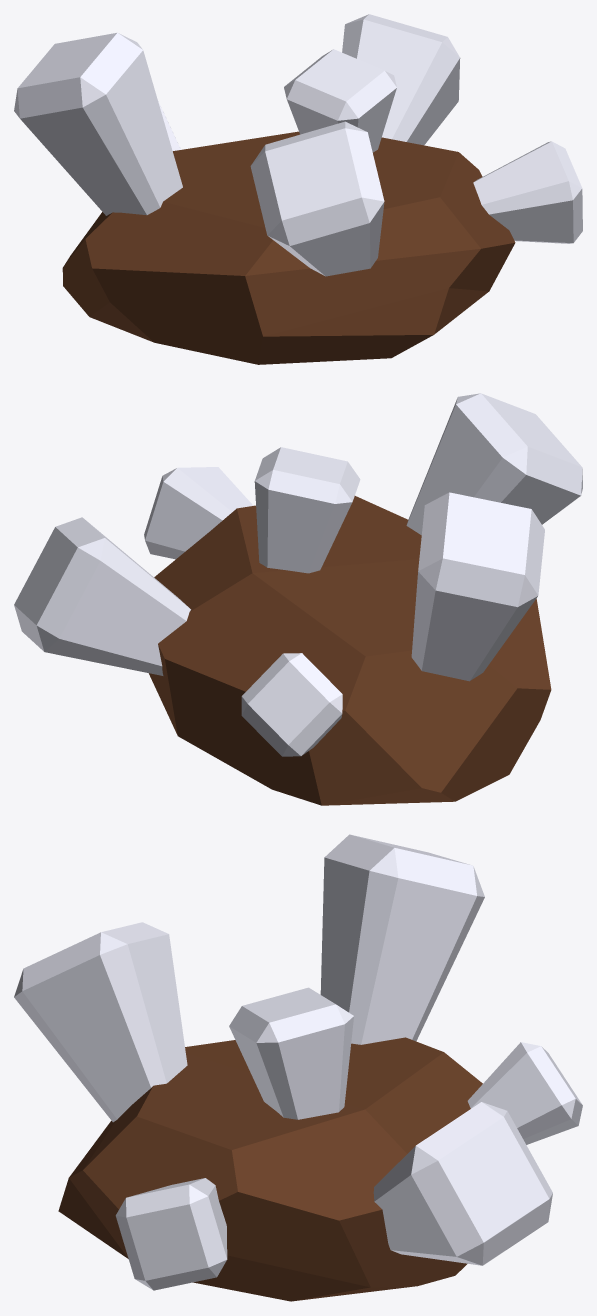
File: MineralNode_15_A.fbx
The picture shows the model from 3 angles, top to bottom: view 1: azimuth 30°, elevation 25°; view 2: azimuth 150°, elevation 25°; view 3: azimuth 270°, elevation 25°; orthographic projection. The views are drawn at different scales.
Parts seen in each view (by area): view 1: MineralNode_15_A; view 2: MineralNode_15_A; view 3: MineralNode_15_A.
Boxes of the visible parts, left/top/right/bottom form: MineralNode_15_A: left=14, top=14, right=582, bottom=364; MineralNode_15_A: left=14, top=393, right=582, bottom=805; MineralNode_15_A: left=14, top=834, right=582, bottom=1301.
Size of the model in its own units: 101 by 55.97 by 94.53.
